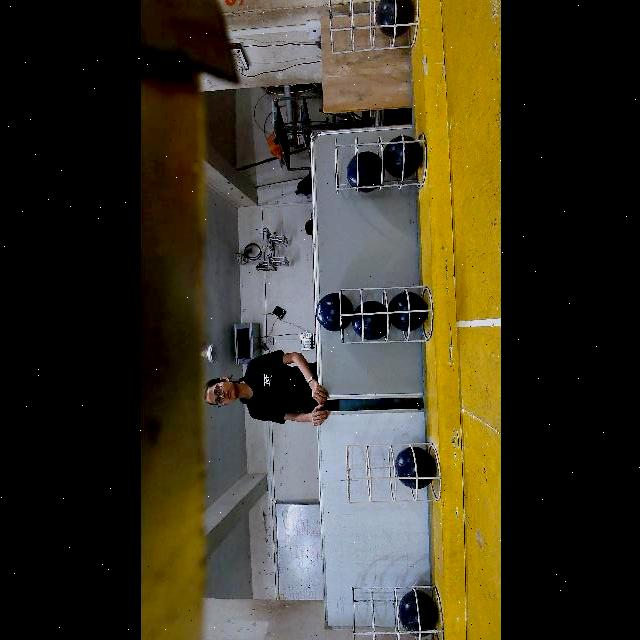P: (397, 591, 437, 637), (394, 448, 435, 489), (383, 135, 421, 179), (346, 151, 384, 193), (350, 301, 390, 340), (388, 292, 426, 331), (315, 292, 352, 332), (376, 0, 413, 35)
S: (345, 442, 441, 506), (342, 280, 436, 344), (332, 129, 428, 191), (326, 0, 414, 54), (359, 582, 441, 638)
